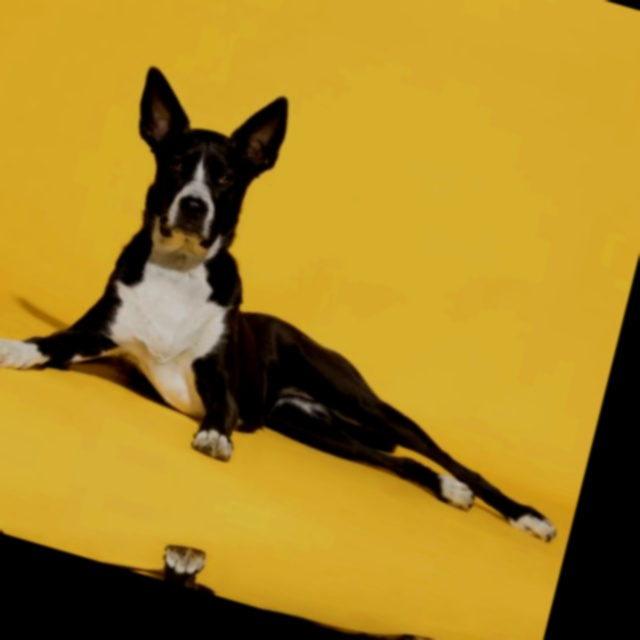dog: (0, 18, 589, 570), (0, 449, 482, 640)
